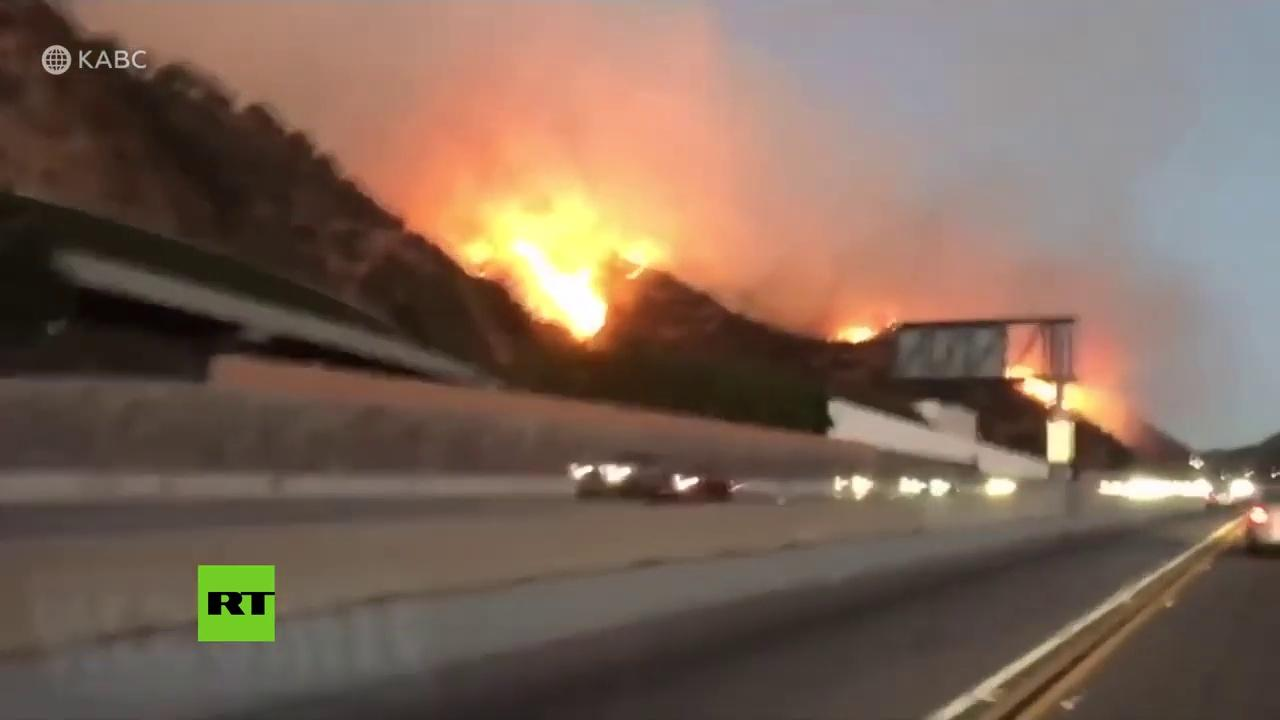fire: (502, 188, 622, 320), (1012, 370, 1098, 414)
